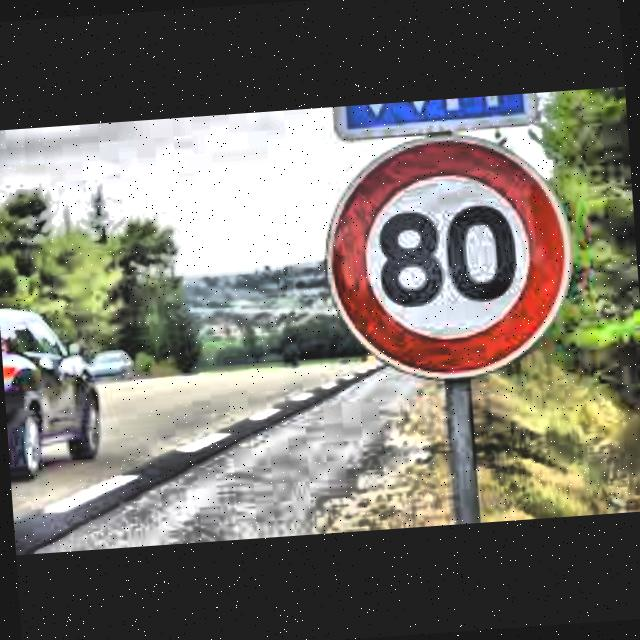speed_80: (318, 125, 584, 388)
